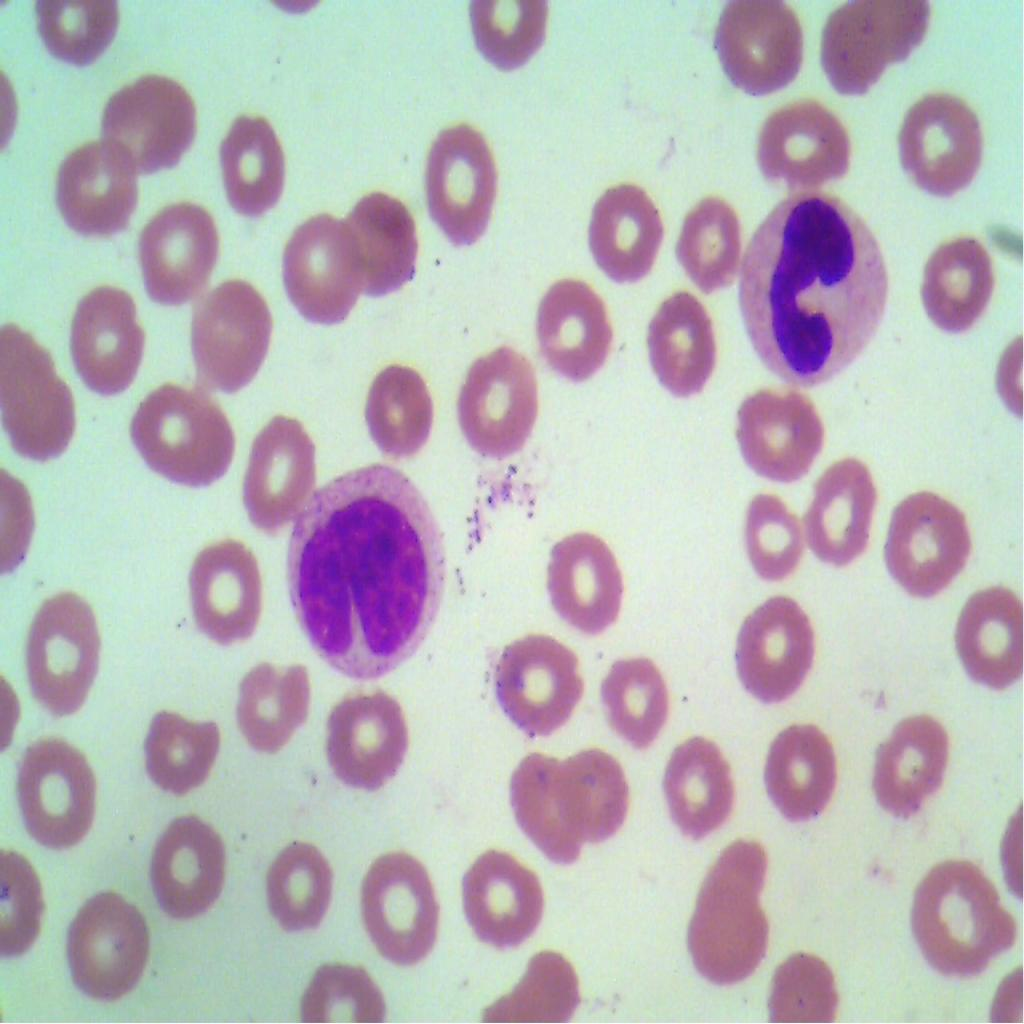Eritrosit: (909, 845, 1019, 984), (712, 588, 830, 714), (856, 690, 956, 824), (356, 838, 450, 980), (451, 324, 544, 462), (58, 888, 162, 1011), (421, 111, 506, 258), (894, 79, 988, 210), (128, 378, 235, 492), (315, 687, 418, 805), (21, 586, 103, 730), (490, 618, 586, 741), (632, 284, 718, 421), (706, 0, 816, 106), (726, 382, 829, 495), (878, 485, 975, 604), (582, 162, 670, 292), (96, 61, 194, 175), (794, 448, 880, 577), (674, 892, 776, 1000), (542, 525, 638, 639), (21, 740, 108, 861), (238, 404, 314, 542), (190, 278, 278, 397), (134, 691, 226, 804), (141, 814, 238, 921), (724, 482, 811, 601), (48, 134, 146, 238), (531, 277, 613, 399), (813, 0, 913, 100), (334, 189, 431, 292), (751, 98, 856, 192), (254, 824, 343, 934), (59, 285, 151, 391), (756, 715, 838, 831), (273, 210, 356, 324), (918, 227, 1004, 337), (212, 111, 298, 219), (234, 655, 320, 762), (182, 545, 268, 651), (462, 842, 542, 952), (508, 745, 583, 862), (456, 0, 563, 82), (0, 368, 81, 474), (954, 575, 1023, 695), (564, 737, 638, 847), (595, 654, 681, 748), (364, 358, 446, 456), (138, 202, 215, 305), (666, 725, 740, 828), (668, 191, 742, 291), (761, 944, 848, 1023), (298, 958, 392, 1023), (703, 835, 768, 921)
Neutrofil: (281, 461, 449, 685), (739, 182, 896, 388)
